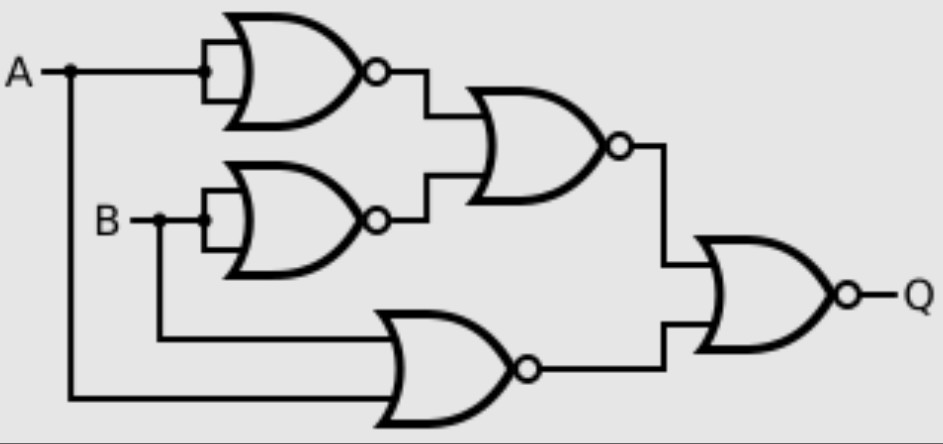nor gate: (366, 302, 551, 433), (688, 232, 870, 360), (219, 156, 400, 284), (217, 8, 399, 135), (462, 82, 646, 207)
